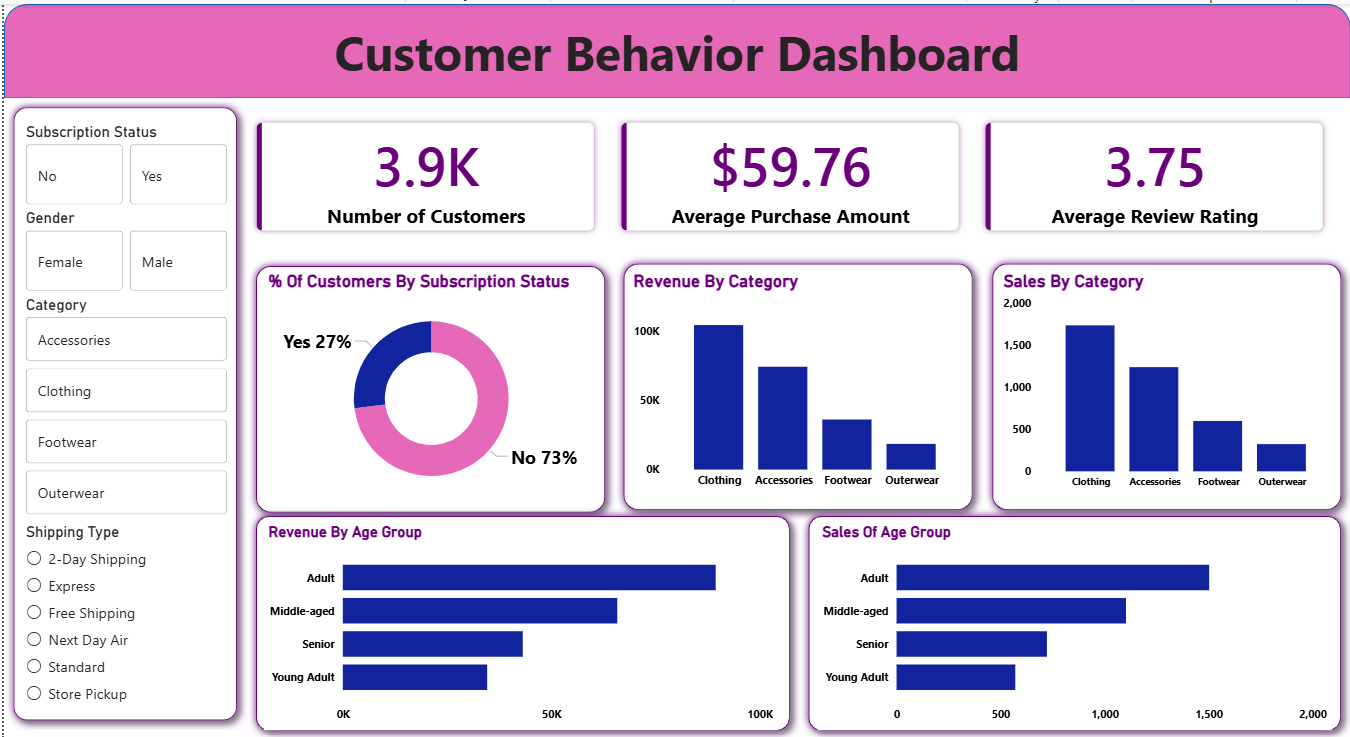

What the dashboard file says about the page in this screenshot:
{"tool":"powerbi","page":{"name":"Page 1","canvas":[1500,820],"ordinal":0},"visuals":[{"type":"cardVisual","fields":{"Data":["customer_shopping.Number of Customers","customer_shopping.Average Purchase Amount","customer_shopping.Average Review Rating"]},"box":[254.1,104.5,1246.3,176.9],"z":0},{"type":"shape","box":[0,0,1500.3,104.5],"z":1000},{"type":"textbox","box":[0,12.9,1500.3,91.7],"z":2000},{"type":"shape","box":[270.2,281.4,410.1,295.9],"z":3000},{"type":"donutChart","title":"% Of Customers By Subscription Status","fields":{"Category":["customer_shopping.Subscription Status"],"Y":["CountNonNull(customer_shopping.Customer ID)"]},"box":[289.5,297.5,373.1,262.1],"z":4000},{"type":"shape","box":[1090.3,278.2,410.1,295.9],"z":5000},{"type":"shape","box":[680.2,278.2,410.1,295.9],"z":6000},{"type":"shape","box":[270.2,559.6,615.9,260.5],"z":7000},{"type":"shape","box":[886,559.6,614.3,260.5],"z":8000},{"type":"shape","box":[0,104.5,270.2,704.3],"z":9000},{"type":"clusteredColumnChart","title":"Revenue By Category","fields":{"Y":["Sum(customer_shopping.Purchase_Amount)"],"Category":["customer_shopping.Category"]},"box":[696.3,297.5,377.9,250.9],"z":10000},{"type":"clusteredColumnChart","title":"Sales By Category","fields":{"Y":["CountNonNull(customer_shopping.Customer ID)"],"Category":["customer_shopping.Category"]},"box":[1108,297.5,377.9,250.9],"z":11000},{"type":"advancedSlicerVisual","fields":{"Values":["customer_shopping.Subscription Status"]},"box":[19.3,131.9,234.8,96.5],"z":12000},{"type":"advancedSlicerVisual","fields":{"Values":["customer_shopping.Gender"]},"box":[19.3,228.3,234.8,96.5],"z":13000},{"type":"advancedSlicerVisual","fields":{"Values":["customer_shopping.Category"]},"box":[19.3,324.8,234.8,249.3],"z":14000},{"type":"listSlicer","fields":{"Values":["customer_shopping.Shipping Type"]},"box":[19.3,577.3,234.8,210.7],"z":15000},{"type":"clusteredBarChart","title":"Revenue By Age Group","fields":{"Y":["Sum(customer_shopping.Purchase_Amount)"],"Category":["customer_shopping.Age Group"]},"box":[289.5,577.3,572.5,231.6],"z":16000},{"type":"clusteredBarChart","title":"Sales Of Age Group","fields":{"Y":["CountNonNull(customer_shopping.Customer ID)"],"Category":["customer_shopping.Age Group"]},"box":[906.9,577.3,572.5,231.6],"z":17000}]}

Visuals, with their boxes in screenshot pixels (x1, y1, x2, y2), scaled from the page's 1500x820 canvas onto the 1350x737 screenshot:
cardVisual - customer_shopping.Number of Customers x customer_shopping.Average Purchase Amount: 229:94:1349:253
shape: 0:0:1349:94
textbox: 0:12:1349:94
shape: 243:253:612:519
"% Of Customers By Subscription Status" donutChart: 261:267:596:503
shape: 981:250:1349:516
shape: 612:250:981:516
shape: 243:503:797:736
shape: 797:503:1349:736
shape: 0:94:243:727
"Revenue By Category" clusteredColumnChart: 627:267:967:493
"Sales By Category" clusteredColumnChart: 997:267:1337:493
advancedSlicerVisual - customer_shopping.Subscription Status: 17:119:229:205
advancedSlicerVisual - customer_shopping.Gender: 17:205:229:292
advancedSlicerVisual - customer_shopping.Category: 17:292:229:516
listSlicer - customer_shopping.Shipping Type: 17:519:229:708
"Revenue By Age Group" clusteredBarChart: 261:519:776:727
"Sales Of Age Group" clusteredBarChart: 816:519:1331:727
